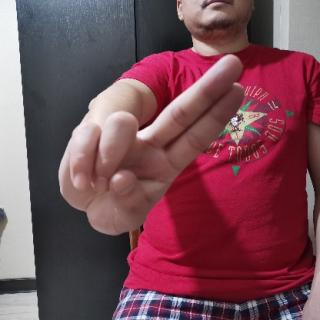TA: (56, 51, 252, 239)
